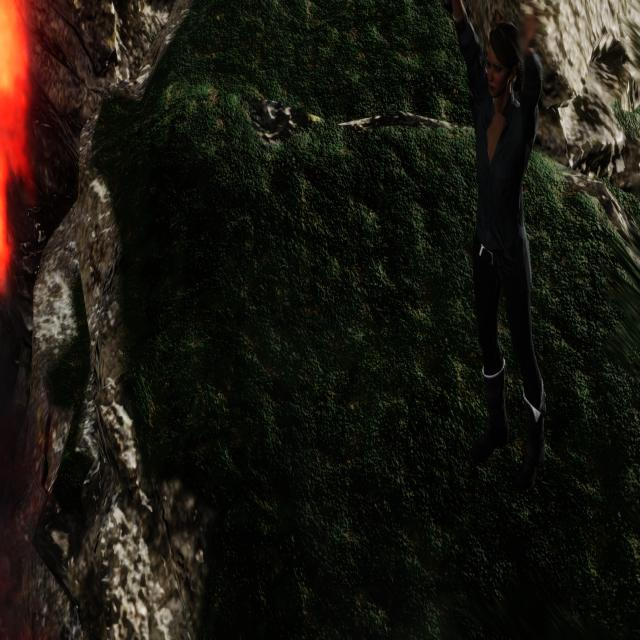Human: (451, 0, 556, 521)
